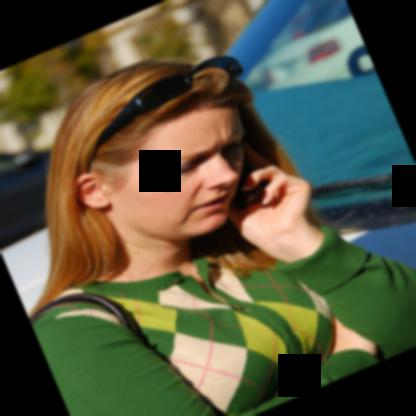handbag: (26, 292, 144, 335)
